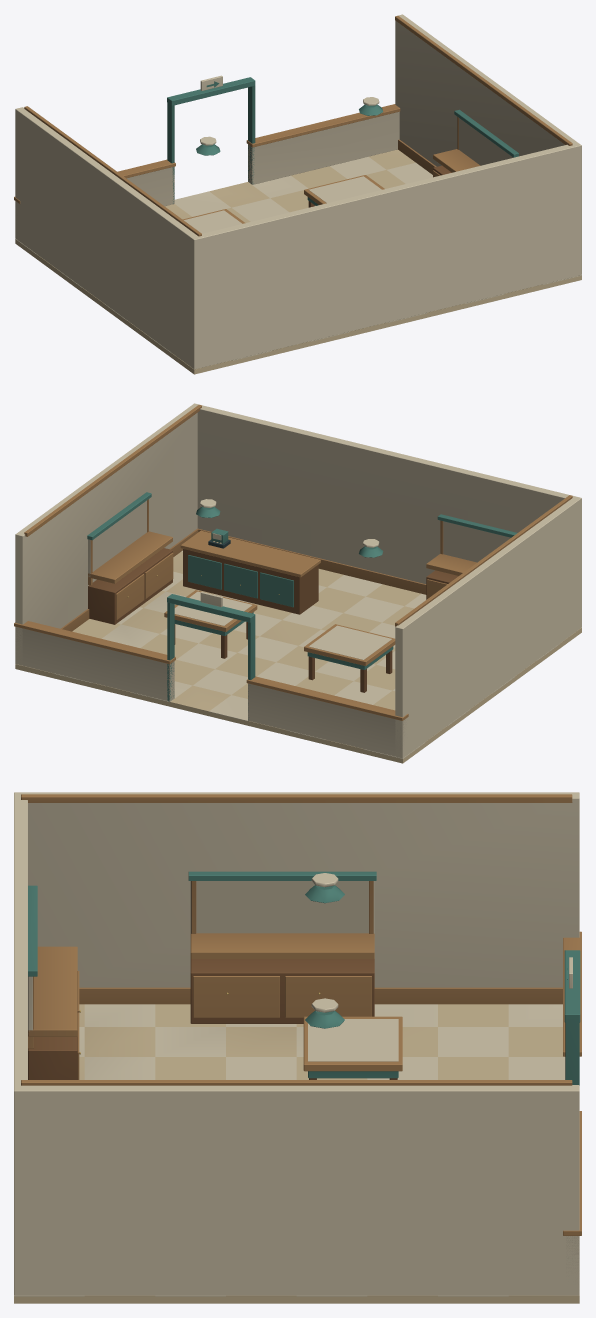
Rendered from store_interior_low.glb.
The picture shows the model from 3 angles, top to bottom: view 1: azimuth 30°, elevation 25°; view 2: azimuth 150°, elevation 25°; view 3: azimuth 270°, elevation 25°; orthographic projection. The views are drawn at different scales.
Bounding box in the file's own units: 10.03 × 3.37 × 8.04.
